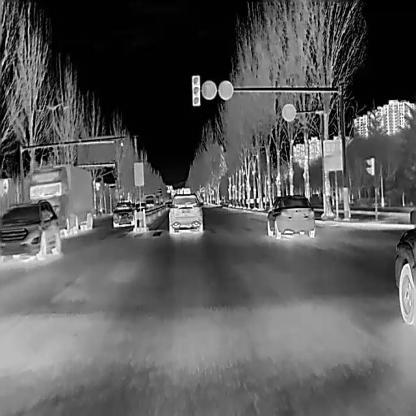car: (26, 163, 93, 236), (0, 197, 59, 259), (265, 192, 315, 239), (166, 191, 203, 233), (110, 202, 134, 227)
